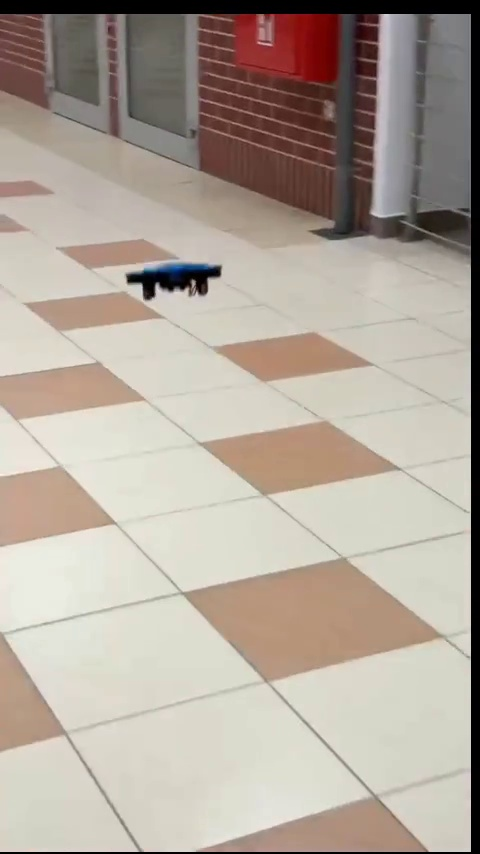drone: (123, 261, 228, 304)
